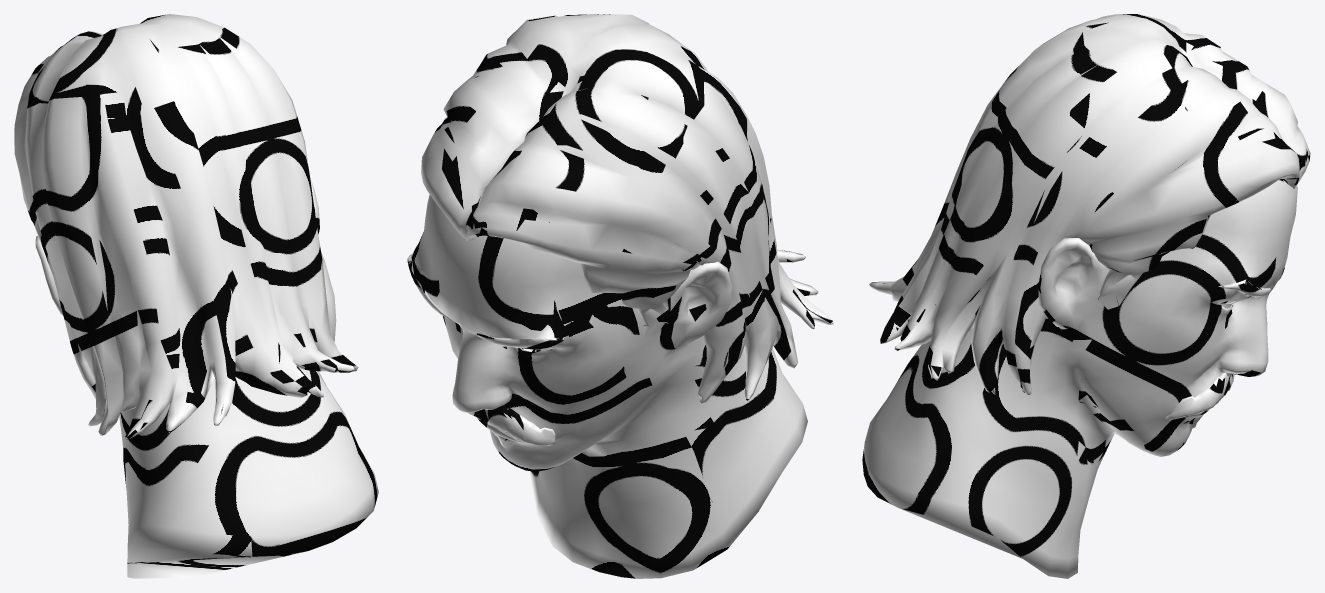
3 views of the same model, side by side, from view 1: azimuth 30°, elevation 25°; view 2: azimuth 150°, elevation 25°; view 3: azimuth 270°, elevation 25° (orthographic). The views are drawn at different scales.
Visible parts, largest first — view 1: head; view 2: head; view 3: head.
Boxes of the visible parts, bbox=[...] form: head: bbox=[14, 14, 378, 578]; head: bbox=[407, 14, 833, 578]; head: bbox=[862, 14, 1310, 578].
Size of the model in its own units: 0.2229 by 0.4356 by 0.3333.
1 material, 1 textured.
